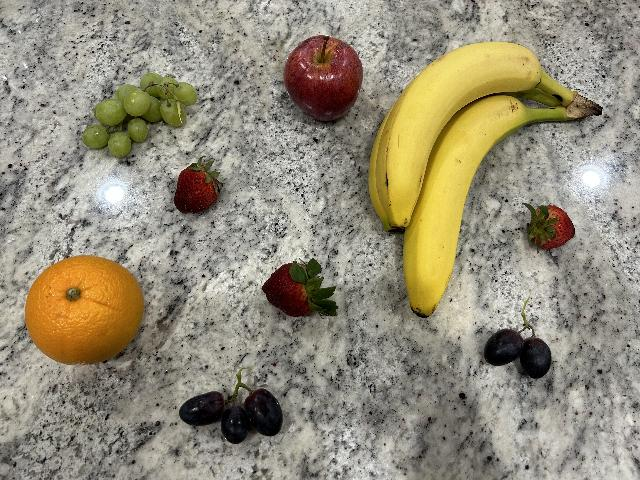Apples: (282, 35, 363, 123)
Bananas: (366, 41, 520, 319)
Grapes: (80, 72, 198, 158), (178, 369, 282, 443), (484, 318, 552, 380)
Oranges: (26, 256, 144, 366)
Strawberries: (261, 257, 339, 321), (174, 156, 224, 214), (522, 200, 576, 253)
